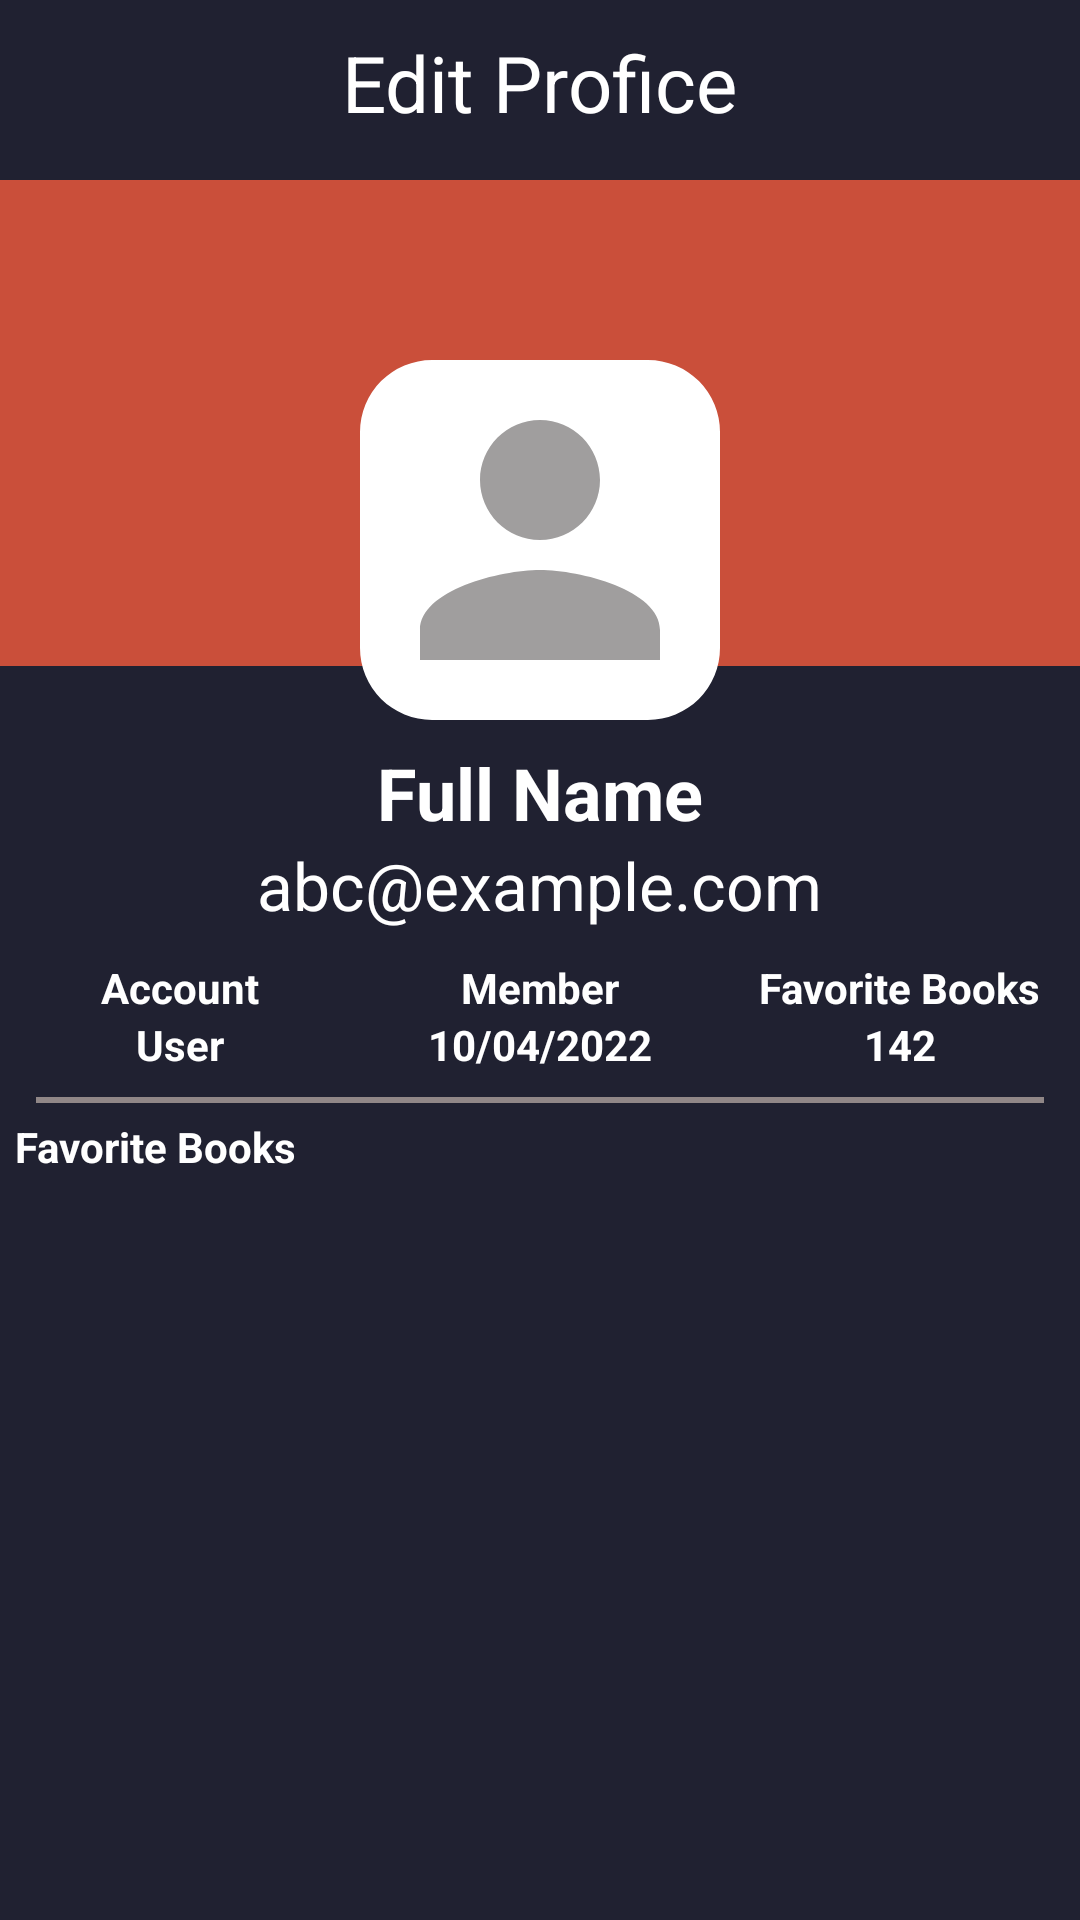

Icons on this 1080px×1920px Android screen, each with the point to tap as (x,y):
person: (540,540)
